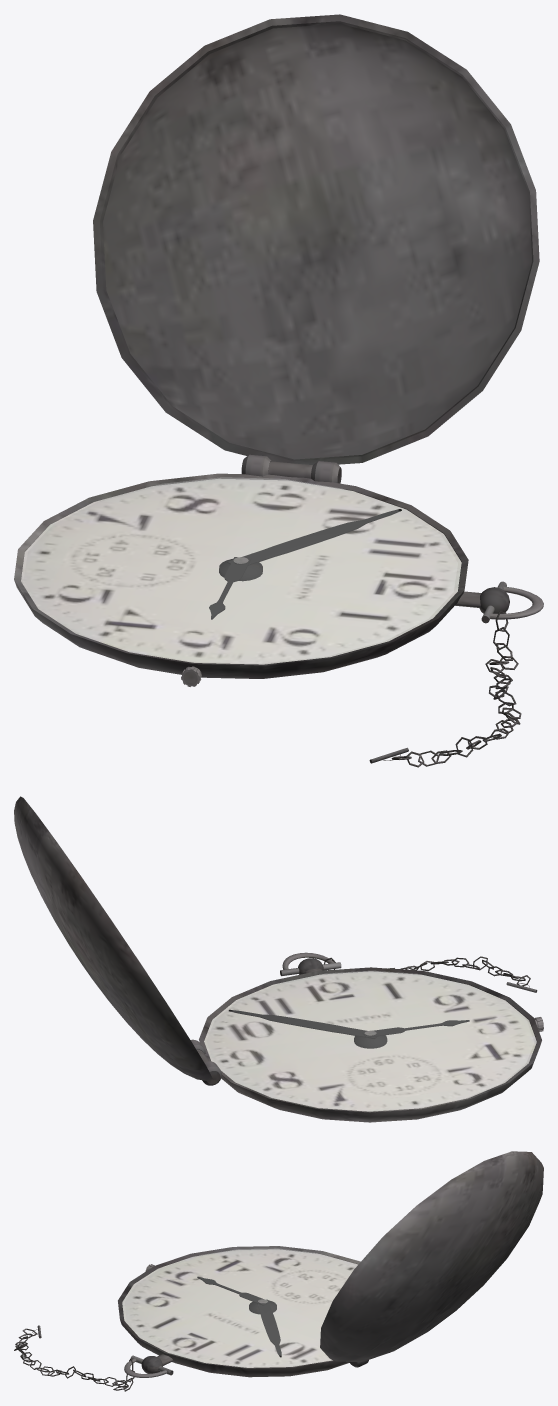
Rendered from obj_pocket_watch_model.glb.
The picture shows the model from 3 angles, top to bottom: view 1: azimuth 30°, elevation 25°; view 2: azimuth 150°, elevation 25°; view 3: azimuth 270°, elevation 25°; orthographic projection. The views are drawn at different scales.
Visible parts, largest first — view 1: Object_2; view 2: Object_2; view 3: Object_2.
Boxes of the visible parts, x1,y1,x2,y2 form: Object_2: (14,14,543,767); Object_2: (14,796,543,1122); Object_2: (14,1151,543,1391).
Bounding box in the file's own units: 0.0472 × 0.0334 × 0.06.
Materials: 2 (1 with a texture image).
